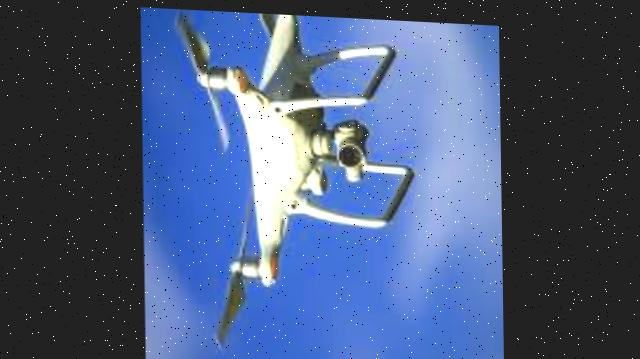drone: (153, 6, 420, 359)
